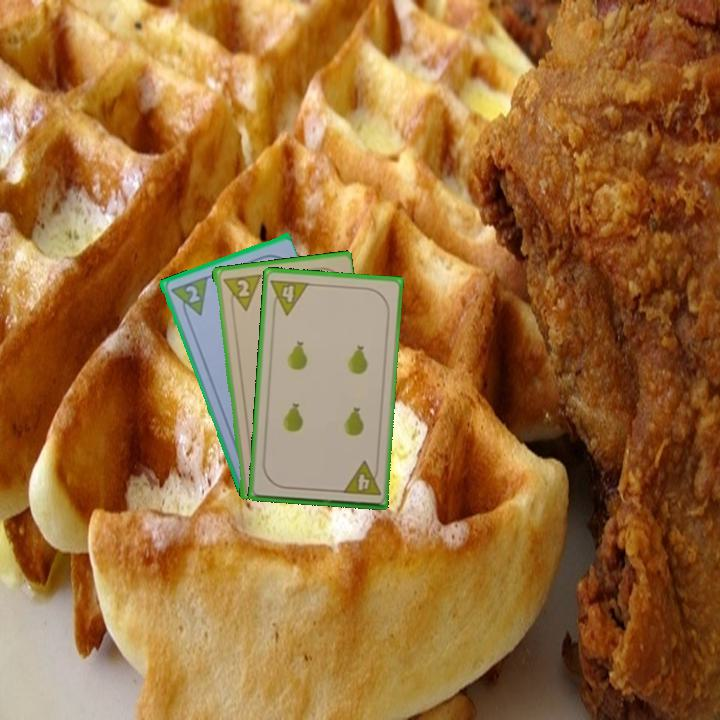2p: (219, 270, 262, 314), (181, 282, 203, 306)
4p: (267, 275, 312, 318), (339, 458, 383, 499)
